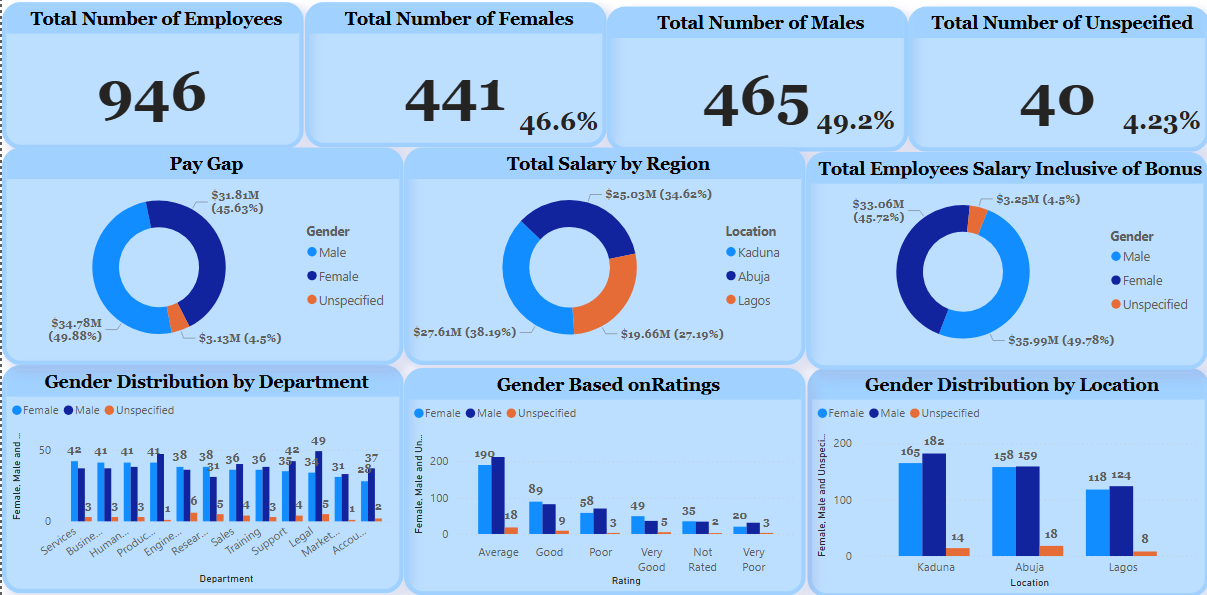

Layout of this report page (visuals, bound fields, positions):
{"tool":"powerbi","page":{"name":"Page 1","canvas":[1280,720],"ordinal":0},"visuals":[{"type":"card","title":"Total Number of  Employees","fields":{"Values":["CountNonNull(Palmoria Group emp-data.Gender)"]},"box":[0,89.1,320,155.9],"z":0},{"type":"clusteredColumnChart","title":"Gender Distribution by Department","fields":{"Category":["Palmoria Group emp-data.Department"],"Y":["Palmoria Group emp-data.Female","Palmoria Group emp-data.Male","Palmoria Group emp-data.Unspecified"]},"box":[0,474,426.3,241.8],"z":1000},{"type":"clusteredColumnChart","title":"Gender Distribution by Location","fields":{"Category":["Palmoria Group emp-data.Location"],"Y":["Palmoria Group emp-data.Female","Palmoria Group emp-data.Male","Palmoria Group emp-data.Unspecified"]},"box":[854.2,477.2,426.3,243.4],"z":2000},{"type":"card","title":"Total Number of  Females","fields":{"Values":["Palmoria Group emp-data.Female"]},"box":[321.3,89.1,319.7,154.3],"z":3000},{"type":"card","title":"Total Number of  Males","fields":{"Values":["Palmoria Group emp-data.Male"]},"box":[641,93.8,320,154],"z":4000},{"type":"card","title":"Total Number of Unspecified","fields":{"Values":["Palmoria Group emp-data.Unspecified"]},"box":[960.7,93.8,319.7,154.3],"z":5000},{"type":"textbox","title":"CVVB","box":[0,15.9,1280.4,73.2],"z":6000},{"type":"card","fields":{"Values":["Bonus Rules.% Females"]},"box":[1178.6,184.5,101.8,58.9],"z":7000},{"type":"card","fields":{"Values":["Bonus Rules.% Male"]},"box":[854.2,184.5,101.8,58.9],"z":8000},{"type":"card","fields":{"Values":["Bonus Rules.% Female"]},"box":[539.2,186.1,101.8,58.9],"z":9000},{"type":"donutChart","title":"Pay Gap","fields":{"Category":["Palmoria Group emp-data.Gender"],"Y":["Sum(Palmoria Group emp-data.Salary)"]},"box":[0,243.4,426,230.6],"z":10000},{"type":"donutChart","title":"Total Salary by Region","fields":{"Category":["Palmoria Group New Employee Salary.Location"],"Y":["Sum(Palmoria Group New Employee Salary.Total Salary)"]},"box":[426.3,243.4,426.3,230.6],"z":11000},{"type":"donutChart","title":"Total Employees Salary Inclusive of  Bonus","fields":{"Category":["Palmoria Group New Employee Salary.Gender"],"Y":["Sum(Palmoria Group New Employee Salary.Total Salary)"]},"box":[852.6,248.1,426,230.6],"z":12000},{"type":"clusteredColumnChart","title":"Gender Based onRatings","fields":{"Category":["Palmoria Group emp-data.Rating"],"Y":["Palmoria Group emp-data.Female","Palmoria Group emp-data.Male","Palmoria Group emp-data.Unspecified"]},"box":[426.3,477.2,426.3,241],"z":13000}]}

Visuals, with their boxes on the page's 1280x720 design canvas (x1, y1, x2, y2). These are canvas units, not pixel positions in the 1207x595 screenshot, which may show the page scaled, cropped or inside an application window:
"Total Number of  Employees" card: (x1=0, y1=89, x2=320, y2=245)
"Gender Distribution by Department" clusteredColumnChart: (x1=0, y1=474, x2=426, y2=716)
"Gender Distribution by Location" clusteredColumnChart: (x1=854, y1=477, x2=1280, y2=721)
"Total Number of  Females" card: (x1=321, y1=89, x2=641, y2=243)
"Total Number of  Males" card: (x1=641, y1=94, x2=961, y2=248)
"Total Number of Unspecified" card: (x1=961, y1=94, x2=1280, y2=248)
"CVVB" textbox: (x1=0, y1=16, x2=1280, y2=89)
card - Bonus Rules.% Females: (x1=1179, y1=184, x2=1280, y2=243)
card - Bonus Rules.% Male: (x1=854, y1=184, x2=956, y2=243)
card - Bonus Rules.% Female: (x1=539, y1=186, x2=641, y2=245)
"Pay Gap" donutChart: (x1=0, y1=243, x2=426, y2=474)
"Total Salary by Region" donutChart: (x1=426, y1=243, x2=853, y2=474)
"Total Employees Salary Inclusive of  Bonus" donutChart: (x1=853, y1=248, x2=1279, y2=479)
"Gender Based onRatings" clusteredColumnChart: (x1=426, y1=477, x2=853, y2=718)
